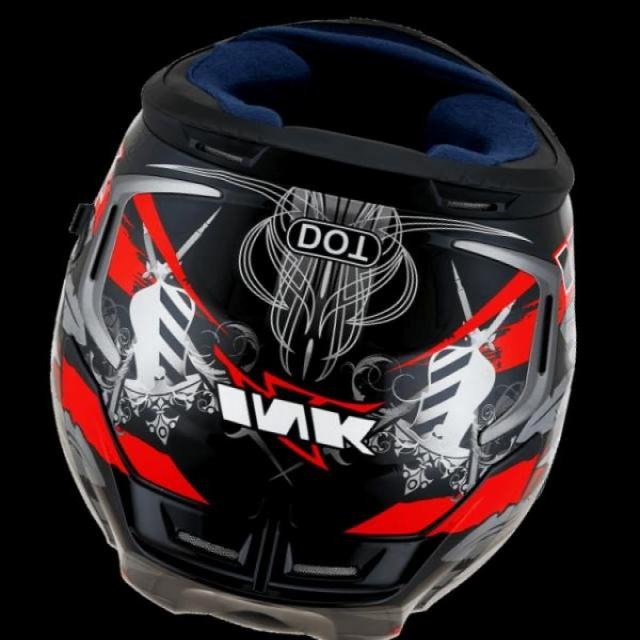Helmet: (49, 6, 580, 638)
